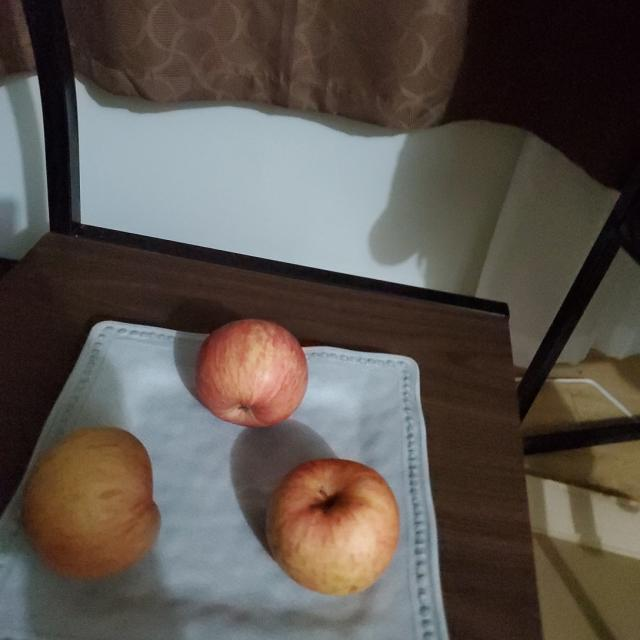apple: (23, 423, 162, 577), (270, 459, 406, 598), (195, 320, 310, 426)
